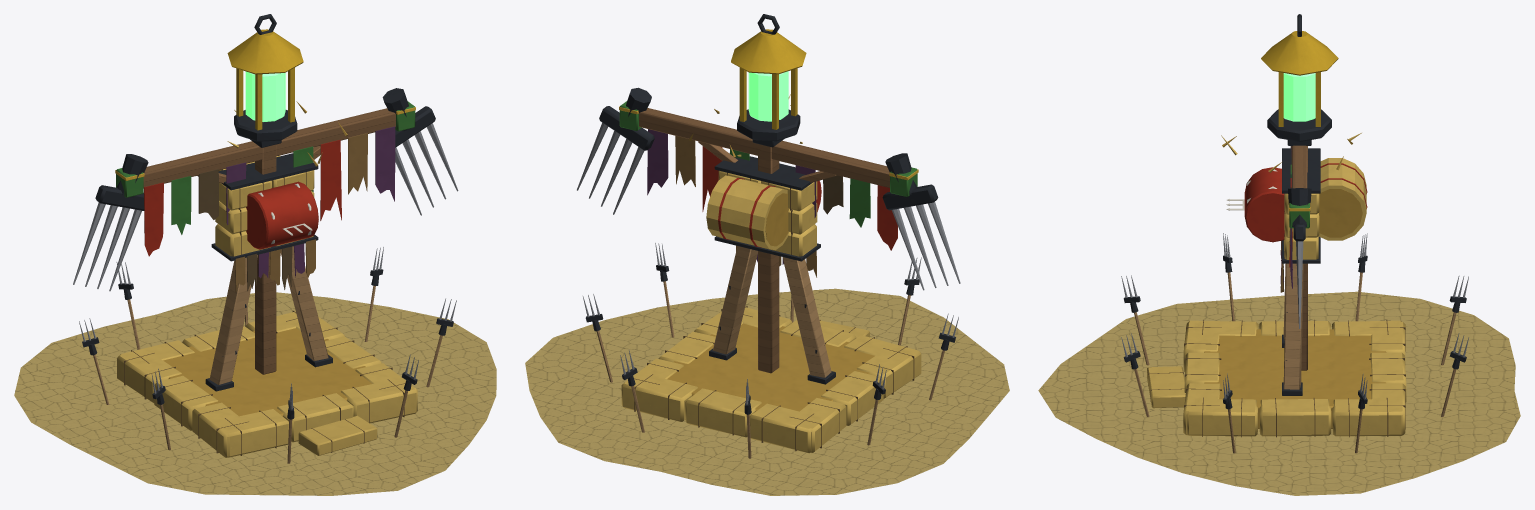
The model's file is rakehand_shrine.glb.
3 views of the same model, side by side, from view 1: azimuth 30°, elevation 25°; view 2: azimuth 150°, elevation 25°; view 3: azimuth 270°, elevation 25° (orthographic).
Parts seen in each view (by area): view 1: rakehand_shrine.001; view 2: rakehand_shrine.001; view 3: rakehand_shrine.001.
Part boxes in pixels (bbox=[...]): rakehand_shrine.001: bbox=[14, 14, 496, 495]; rakehand_shrine.001: bbox=[525, 14, 1009, 495]; rakehand_shrine.001: bbox=[1038, 14, 1520, 495].
Size of what is drawn, in the model's own units: 16.24 by 14.08 by 16.21.
Materials: 23 (22 with a texture image).
